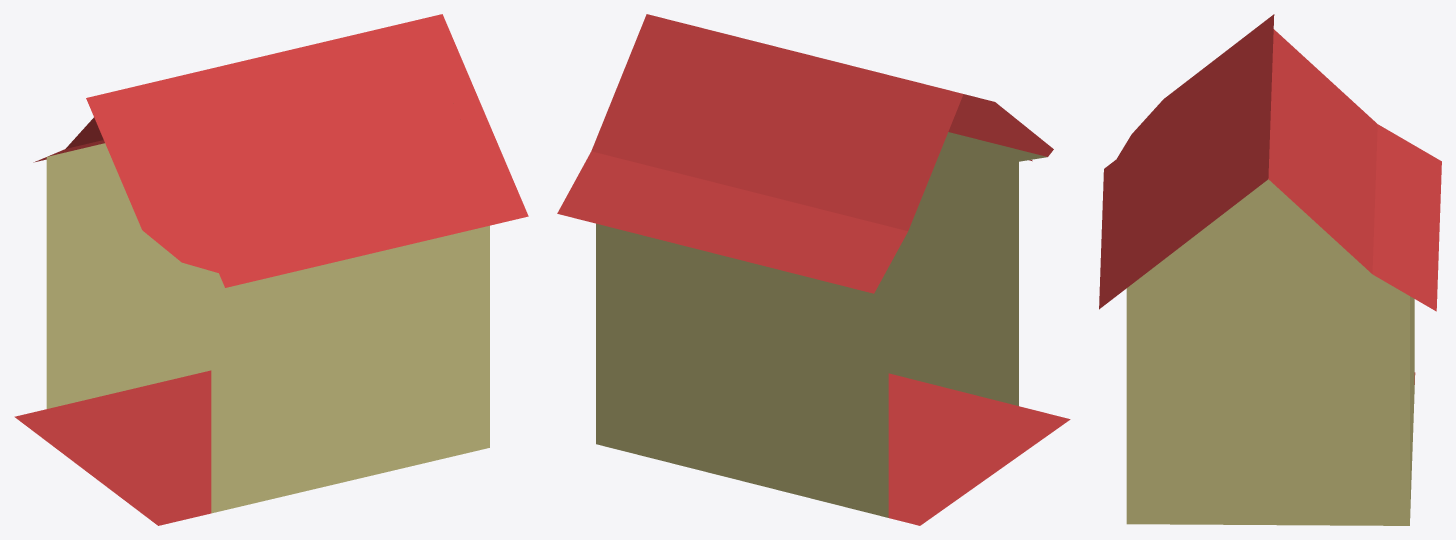
3 views of the same model, side by side, from view 1: azimuth 30°, elevation 25°; view 2: azimuth 150°, elevation 25°; view 3: azimuth 270°, elevation 25° (orthographic). The views are drawn at different scales.
Bounding box in the file's own units: 14.53 × 12.6 × 14.48.
